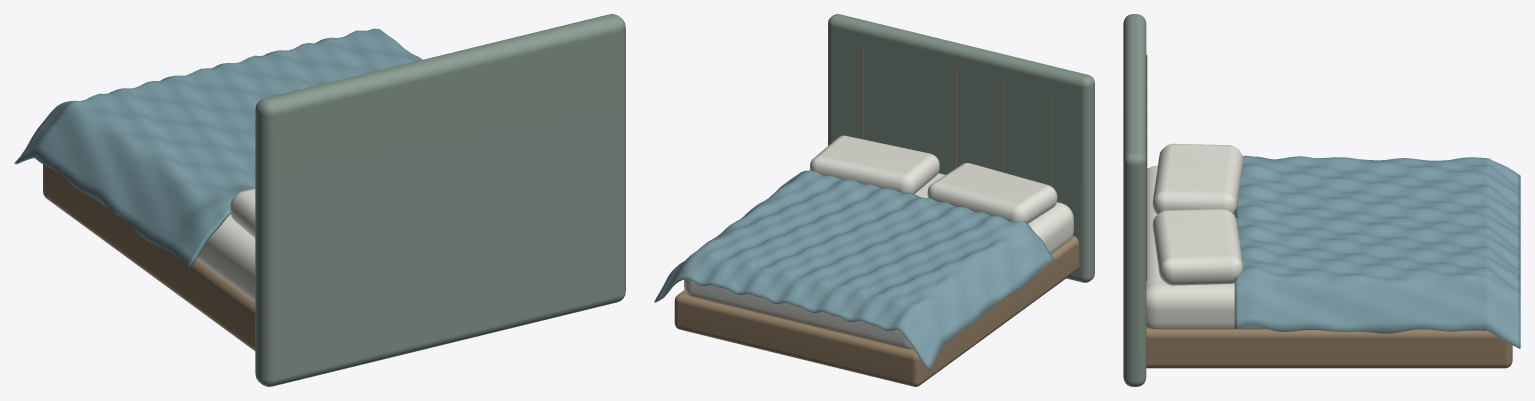
The model's file is bed.glb.
3 renders of one model, left to right at view 1: azimuth 30°, elevation 25°; view 2: azimuth 150°, elevation 25°; view 3: azimuth 270°, elevation 25°, orthographic. The views are drawn at different scales.
Parts seen in each view (by area): view 1: Headboard, Duvet, Frame, Mattress, Pillow; view 2: Duvet, Headboard, Frame, Mattress, Pillow, Pillow.001; view 3: Duvet, Frame, Headboard, Pillow.001, Pillow, Mattress.
Boxes of the visible parts, x1,y1,x2,y2 form: Headboard: (255,14,625,386); Duvet: (14,28,422,267); Frame: (43,164,255,350); Mattress: (196,214,255,301); Pillow: (230,188,255,237); Duvet: (654,170,1054,370); Headboard: (828,14,1094,282); Frame: (674,236,1079,386); Mattress: (684,173,1073,349); Pillow: (927,163,1057,223); Pillow.001: (810,135,939,193); Duvet: (1234,155,1520,348); Frame: (1146,327,1512,368); Headboard: (1123,14,1146,386); Pillow.001: (1152,209,1243,285); Pillow: (1152,143,1243,214); Mattress: (1146,165,1266,329).
Bounding box in the file's own units: 2.06 × 1.47 × 2.27.
